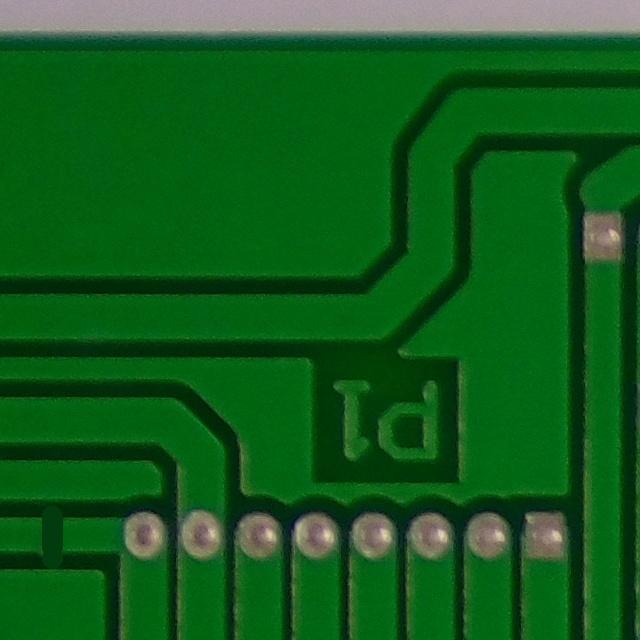open_circuit: (19, 504, 81, 566)
